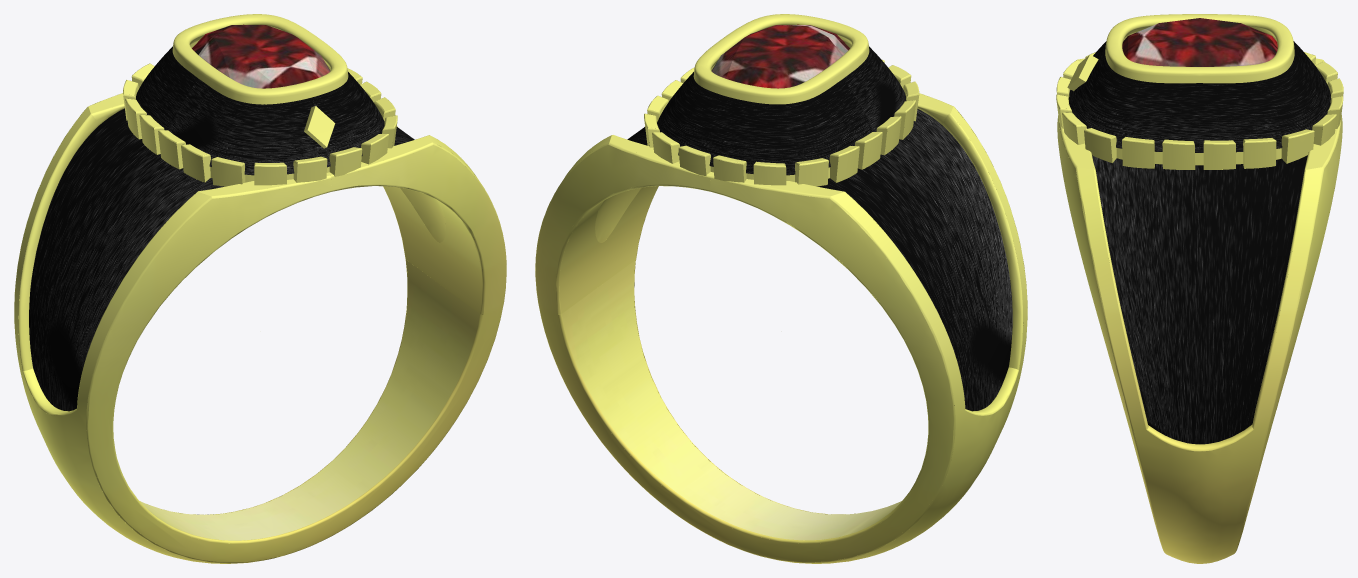
Rendered from ring50.glb.
The picture shows the model from 3 angles, left to right: view 1: azimuth 30°, elevation 25°; view 2: azimuth 150°, elevation 25°; view 3: azimuth 270°, elevation 25°; orthographic projection.
Parts seen in each view (by area): view 1: body, black, core; view 2: body, black, core; view 3: black, body, core.
Part boxes in pixels (x1,y1,x2,y2): body: (14,14,506,563); black: (29,46,414,411); core: (192,24,330,88); body: (535,14,1027,563); black: (627,46,1012,411); core: (711,24,849,88); black: (1068,41,1331,444); body: (1056,14,1343,563); core: (1122,18,1277,66).
Bounding box in the file's own units: 21.47 × 24.03 × 12.39.
Materials: 4 (4 with a texture image).
